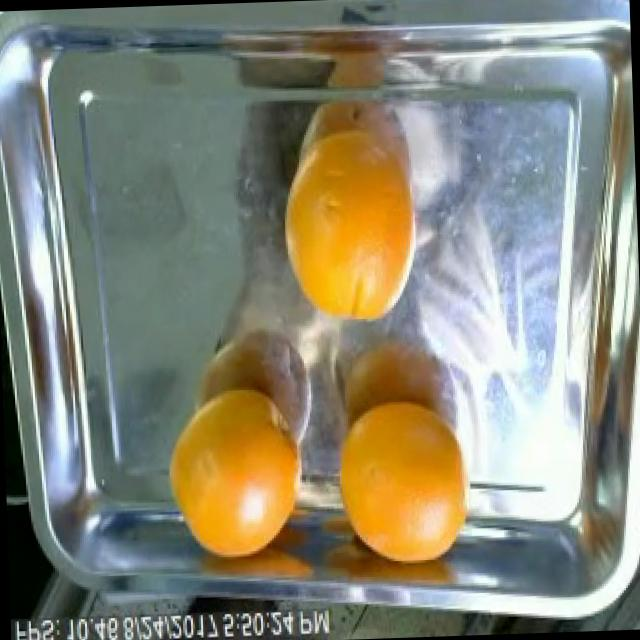Fruit: (148, 357, 322, 579), (262, 128, 432, 350), (318, 367, 479, 588)
